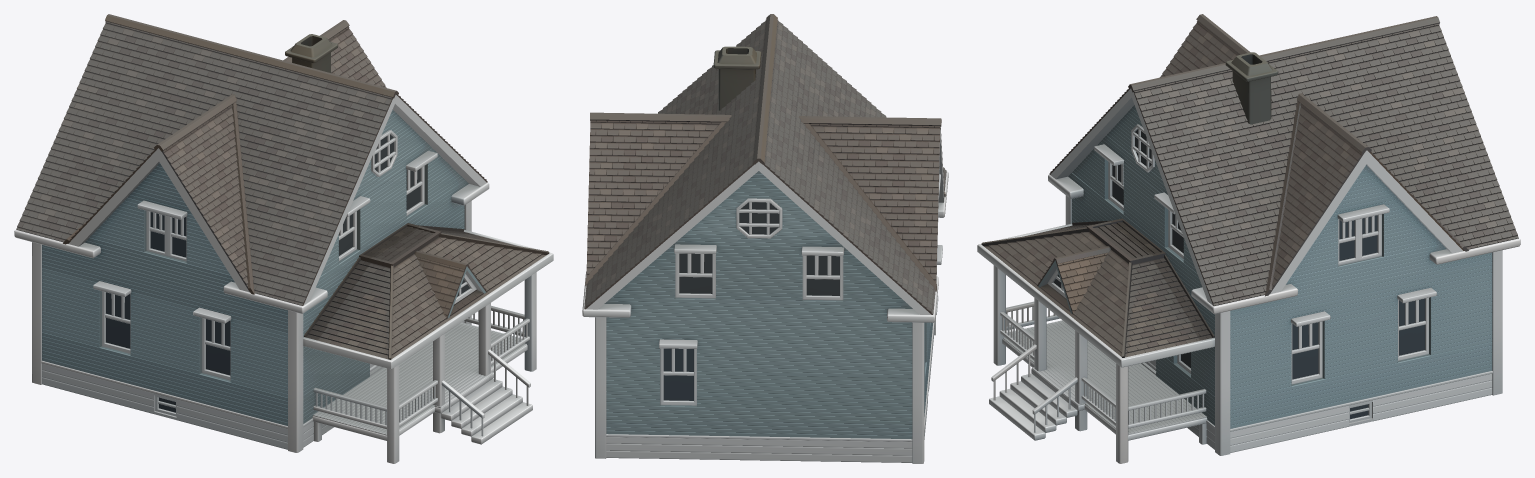
File: home1.glb
3 views of the same model, side by side, from view 1: azimuth 30°, elevation 25°; view 2: azimuth 150°, elevation 25°; view 3: azimuth 270°, elevation 25° (orthographic).
Parts seen in each view (by area): view 1: node_id115_1; view 2: node_id115_1; view 3: node_id115_1.
Part boxes in pixels (x1=…): node_id115_1: x1=14, y1=14, x2=553, y2=463; node_id115_1: x1=582, y1=14, x2=948, y2=463; node_id115_1: x1=977, y1=14, x2=1520, y2=463.
Bounding box in the file's own units: 0.461 × 0.3312 × 0.5021.
Materials: 1 (1 with a texture image).
